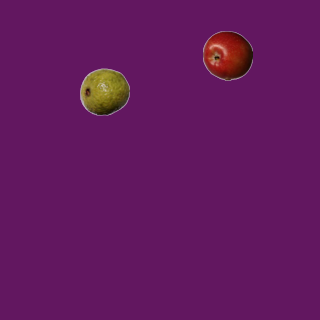Apple Braeburn: (202, 30, 252, 80)
Guava: (79, 66, 129, 116)
